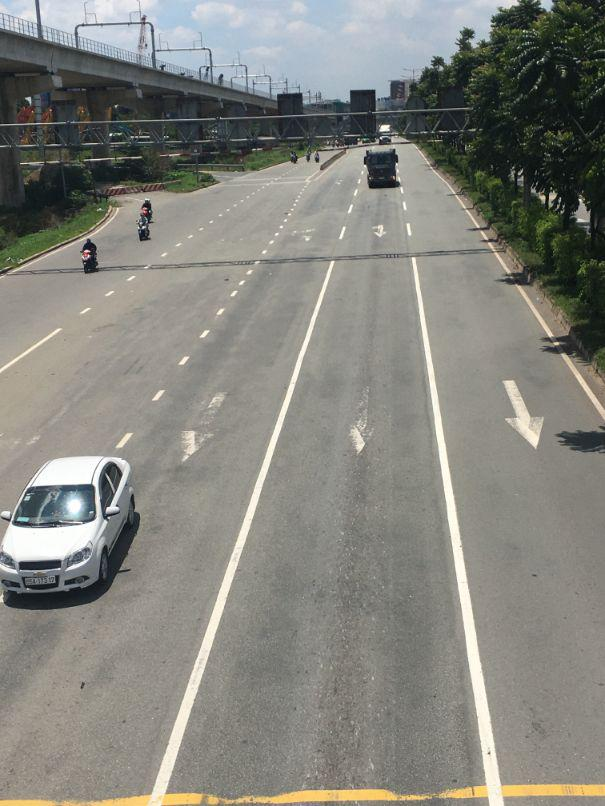car: (0, 455, 144, 602), (379, 126, 393, 144)
motorbike: (82, 241, 98, 273), (138, 207, 152, 239)
truck: (367, 148, 399, 189)
